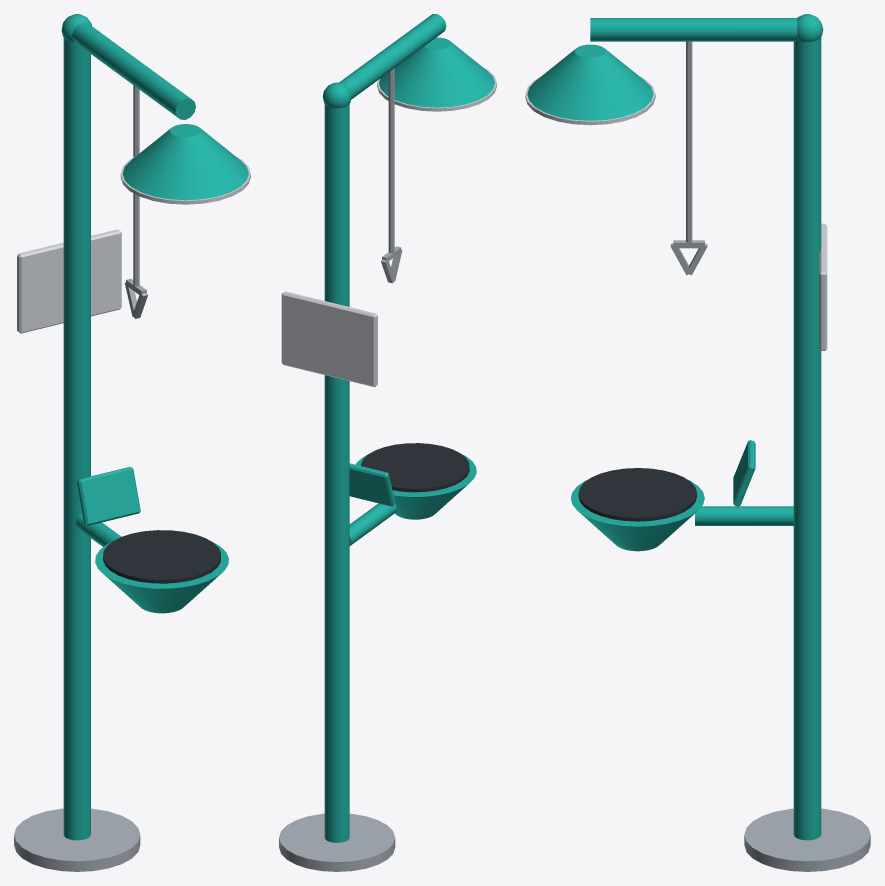
Rendered from emergency-shower.glb.
3 views of the same model, side by side, from view 1: azimuth 30°, elevation 25°; view 2: azimuth 150°, elevation 25°; view 3: azimuth 270°, elevation 25° (orthographic). The views are drawn at different scales.
Visible parts, largest first — view 1: emergency-shower; view 2: emergency-shower; view 3: emergency-shower.
Boxes of the visible parts, bbox=[...] form: emergency-shower: bbox=[14, 14, 250, 871]; emergency-shower: bbox=[279, 14, 496, 871]; emergency-shower: bbox=[525, 14, 870, 871].
Size of the model in its own units: 0.34 by 2.32 by 0.875.
